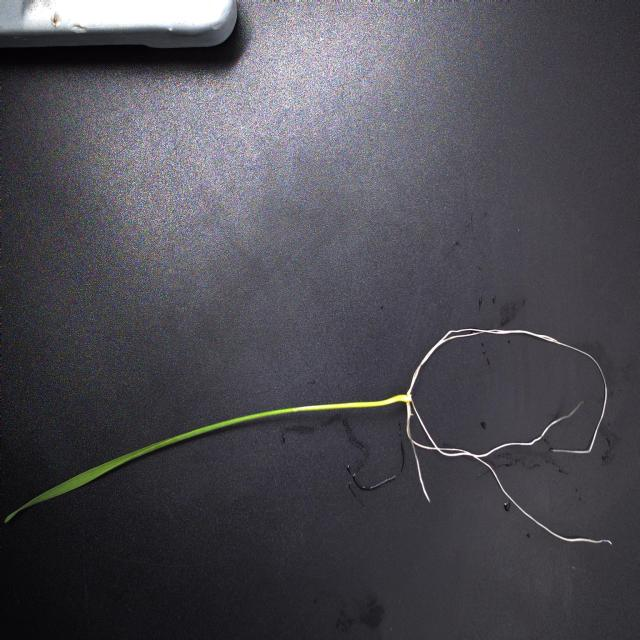leaf: (5, 447, 148, 521)
root: (407, 328, 608, 454), (405, 400, 572, 501), (513, 502, 612, 544), (416, 457, 429, 501)
stem: (5, 395, 410, 522)
